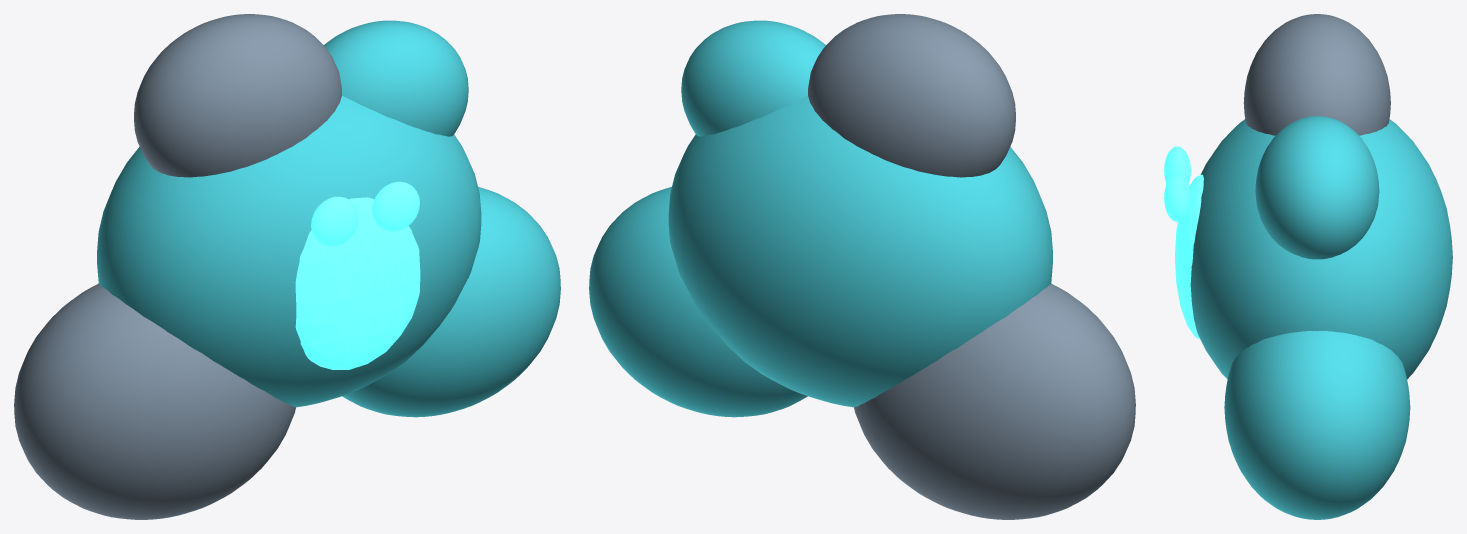
Rendered from ooze_v5.glb.
3 views of the same model, side by side, from view 1: azimuth 30°, elevation 25°; view 2: azimuth 150°, elevation 25°; view 3: azimuth 270°, elevation 25° (orthographic). The views are drawn at different scales.
Visible parts, largest first — view 1: AMOEBA_LOBE_ACCENT, AMOEBA_LOBE_PRIMARY, AMOEBA_LOBE_PRIMARY.001, AMOEBA_LOBE_ACCENT.001, AMOEBA_NUCLEUS_EMISSIVE, AMOEBA_LOBE_ACCENT.002, EYE_EMISSIVE, EYE_EMISSIVE.001; view 2: AMOEBA_LOBE_ACCENT, AMOEBA_LOBE_PRIMARY, AMOEBA_LOBE_PRIMARY.001, AMOEBA_LOBE_ACCENT.001, AMOEBA_LOBE_ACCENT.002; view 3: AMOEBA_LOBE_ACCENT, AMOEBA_LOBE_ACCENT.001, AMOEBA_LOBE_ACCENT.002, AMOEBA_LOBE_PRIMARY.001, AMOEBA_NUCLEUS_EMISSIVE, EYE_EMISSIVE.001, EYE_EMISSIVE.
Boxes of the visible parts, left/top/right/bottom form: AMOEBA_LOBE_ACCENT: left=97, top=95, right=481, bottom=407; AMOEBA_LOBE_PRIMARY: left=14, top=283, right=295, bottom=519; AMOEBA_LOBE_PRIMARY.001: left=134, top=14, right=341, bottom=177; AMOEBA_LOBE_ACCENT.001: left=342, top=187, right=560, bottom=417; AMOEBA_NUCLEUS_EMISSIVE: left=295, top=197, right=420, bottom=369; AMOEBA_LOBE_ACCENT.002: left=324, top=20, right=468, bottom=136; EYE_EMISSIVE: left=311, top=196, right=358, bottom=246; EYE_EMISSIVE.001: left=372, top=181, right=419, bottom=231; AMOEBA_LOBE_ACCENT: left=668, top=95, right=1052, bottom=407; AMOEBA_LOBE_PRIMARY: left=854, top=283, right=1135, bottom=519; AMOEBA_LOBE_PRIMARY.001: left=808, top=14, right=1015, bottom=177; AMOEBA_LOBE_ACCENT.001: left=589, top=187, right=807, bottom=417; AMOEBA_LOBE_ACCENT.002: left=681, top=20, right=825, bottom=136; AMOEBA_LOBE_ACCENT: left=1190, top=119, right=1452, bottom=379; AMOEBA_LOBE_ACCENT.001: left=1224, top=331, right=1410, bottom=519; AMOEBA_LOBE_ACCENT.002: left=1255, top=116, right=1379, bottom=259; AMOEBA_LOBE_PRIMARY.001: left=1243, top=14, right=1390, bottom=135; AMOEBA_NUCLEUS_EMISSIVE: left=1175, top=174, right=1203, bottom=338; EYE_EMISSIVE.001: left=1164, top=173, right=1190, bottom=221; EYE_EMISSIVE: left=1164, top=146, right=1190, bottom=183.
Size of the model in its own units: 2.07 by 1.76 by 1.07.
